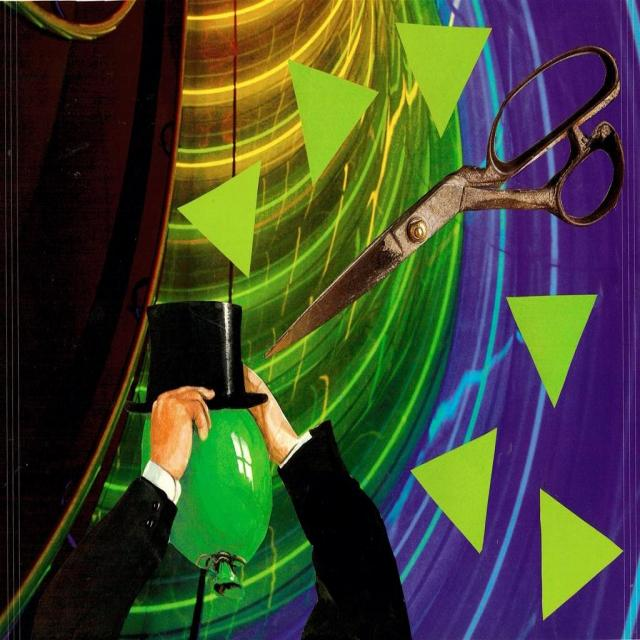scissor: (263, 46, 632, 352)
